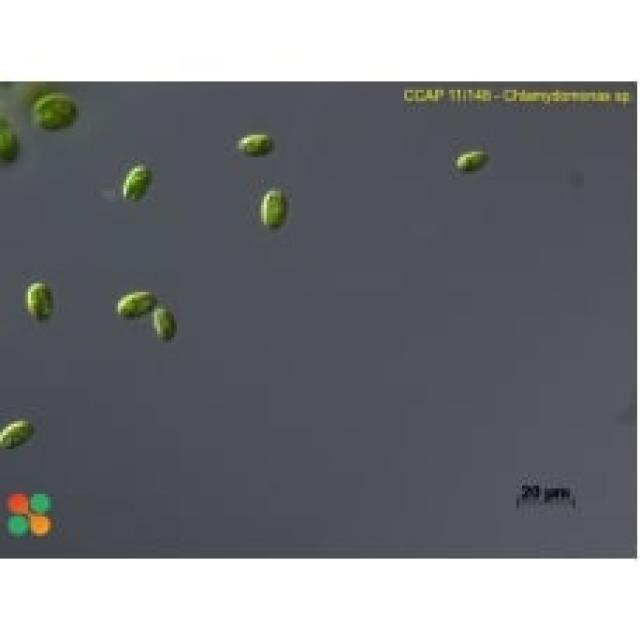Green Algae: (26, 84, 81, 135), (110, 284, 157, 320), (22, 278, 59, 323), (3, 410, 36, 455), (146, 303, 182, 343), (124, 157, 152, 208), (230, 129, 278, 157), (258, 188, 289, 230), (449, 149, 491, 174)
